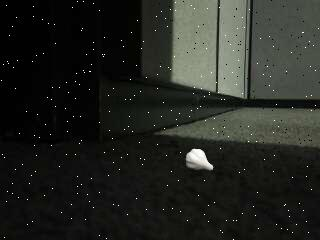Garlic: (184, 148, 216, 172)
